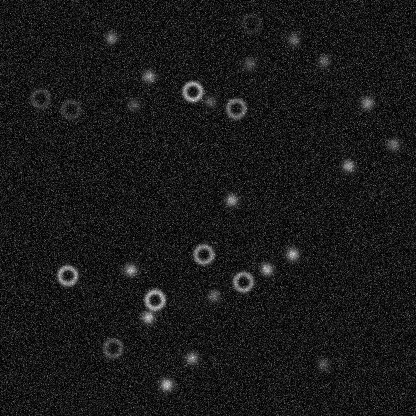Ring: (230, 269, 254, 293), (142, 287, 166, 311), (223, 96, 247, 120), (191, 242, 215, 266), (58, 97, 82, 121), (28, 86, 52, 110), (180, 79, 204, 103), (100, 336, 124, 360), (239, 11, 263, 35), (55, 263, 79, 287)
Spot: (315, 52, 331, 68), (385, 136, 401, 152), (122, 261, 138, 277), (205, 287, 221, 303), (103, 29, 119, 45), (201, 93, 217, 109), (285, 31, 301, 47), (358, 94, 374, 110), (140, 309, 156, 325), (314, 356, 330, 372), (284, 246, 300, 262), (223, 192, 239, 208), (183, 350, 199, 366), (158, 376, 174, 392), (258, 261, 274, 277), (140, 68, 156, 84), (125, 96, 141, 112), (241, 55, 257, 71), (340, 157, 356, 173)
